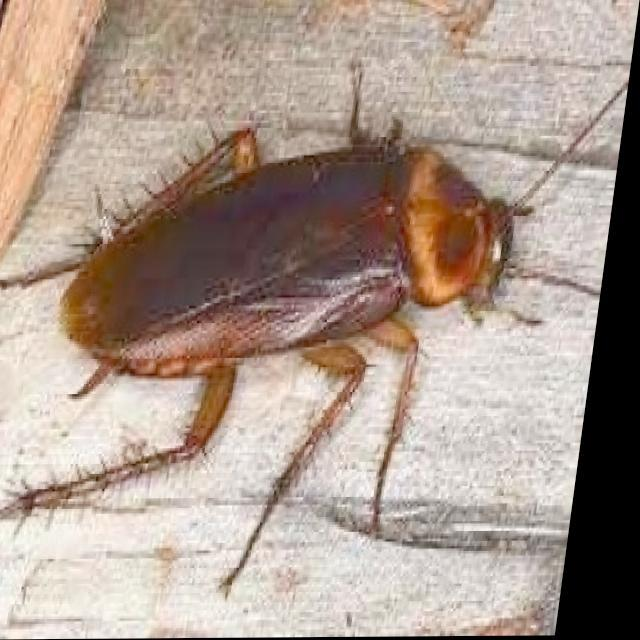cockroach: (14, 91, 555, 510)
